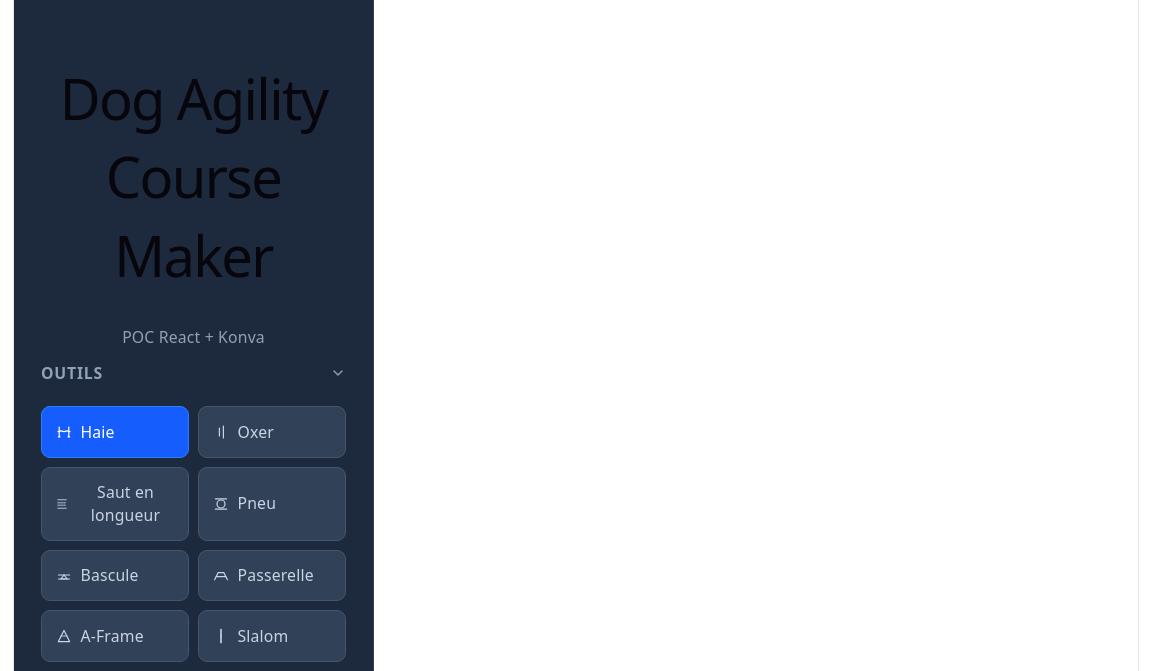
it: Sidebar accessibilité › re-cliquer le titre ouvert referme la section (aucune ouverte)
Step 1. Click the button "Outils" → {"x": 72, "y": 373}, box [41,349,346,398]
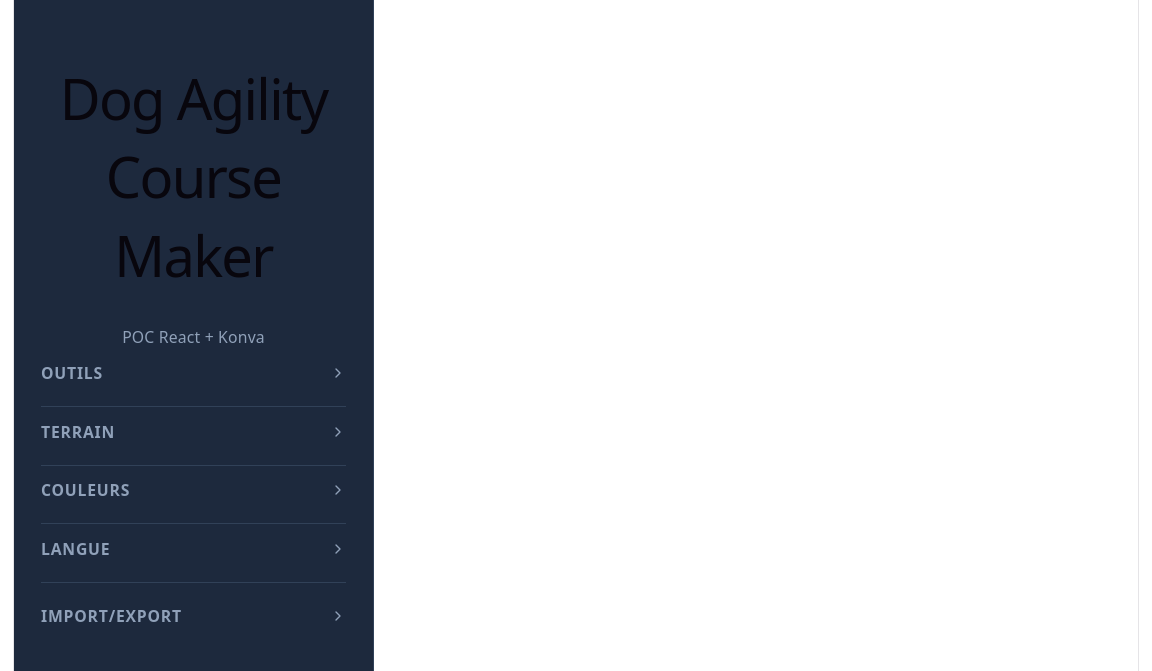
Expected: the button "Outils" is collapsed, [41,349,346,398]
